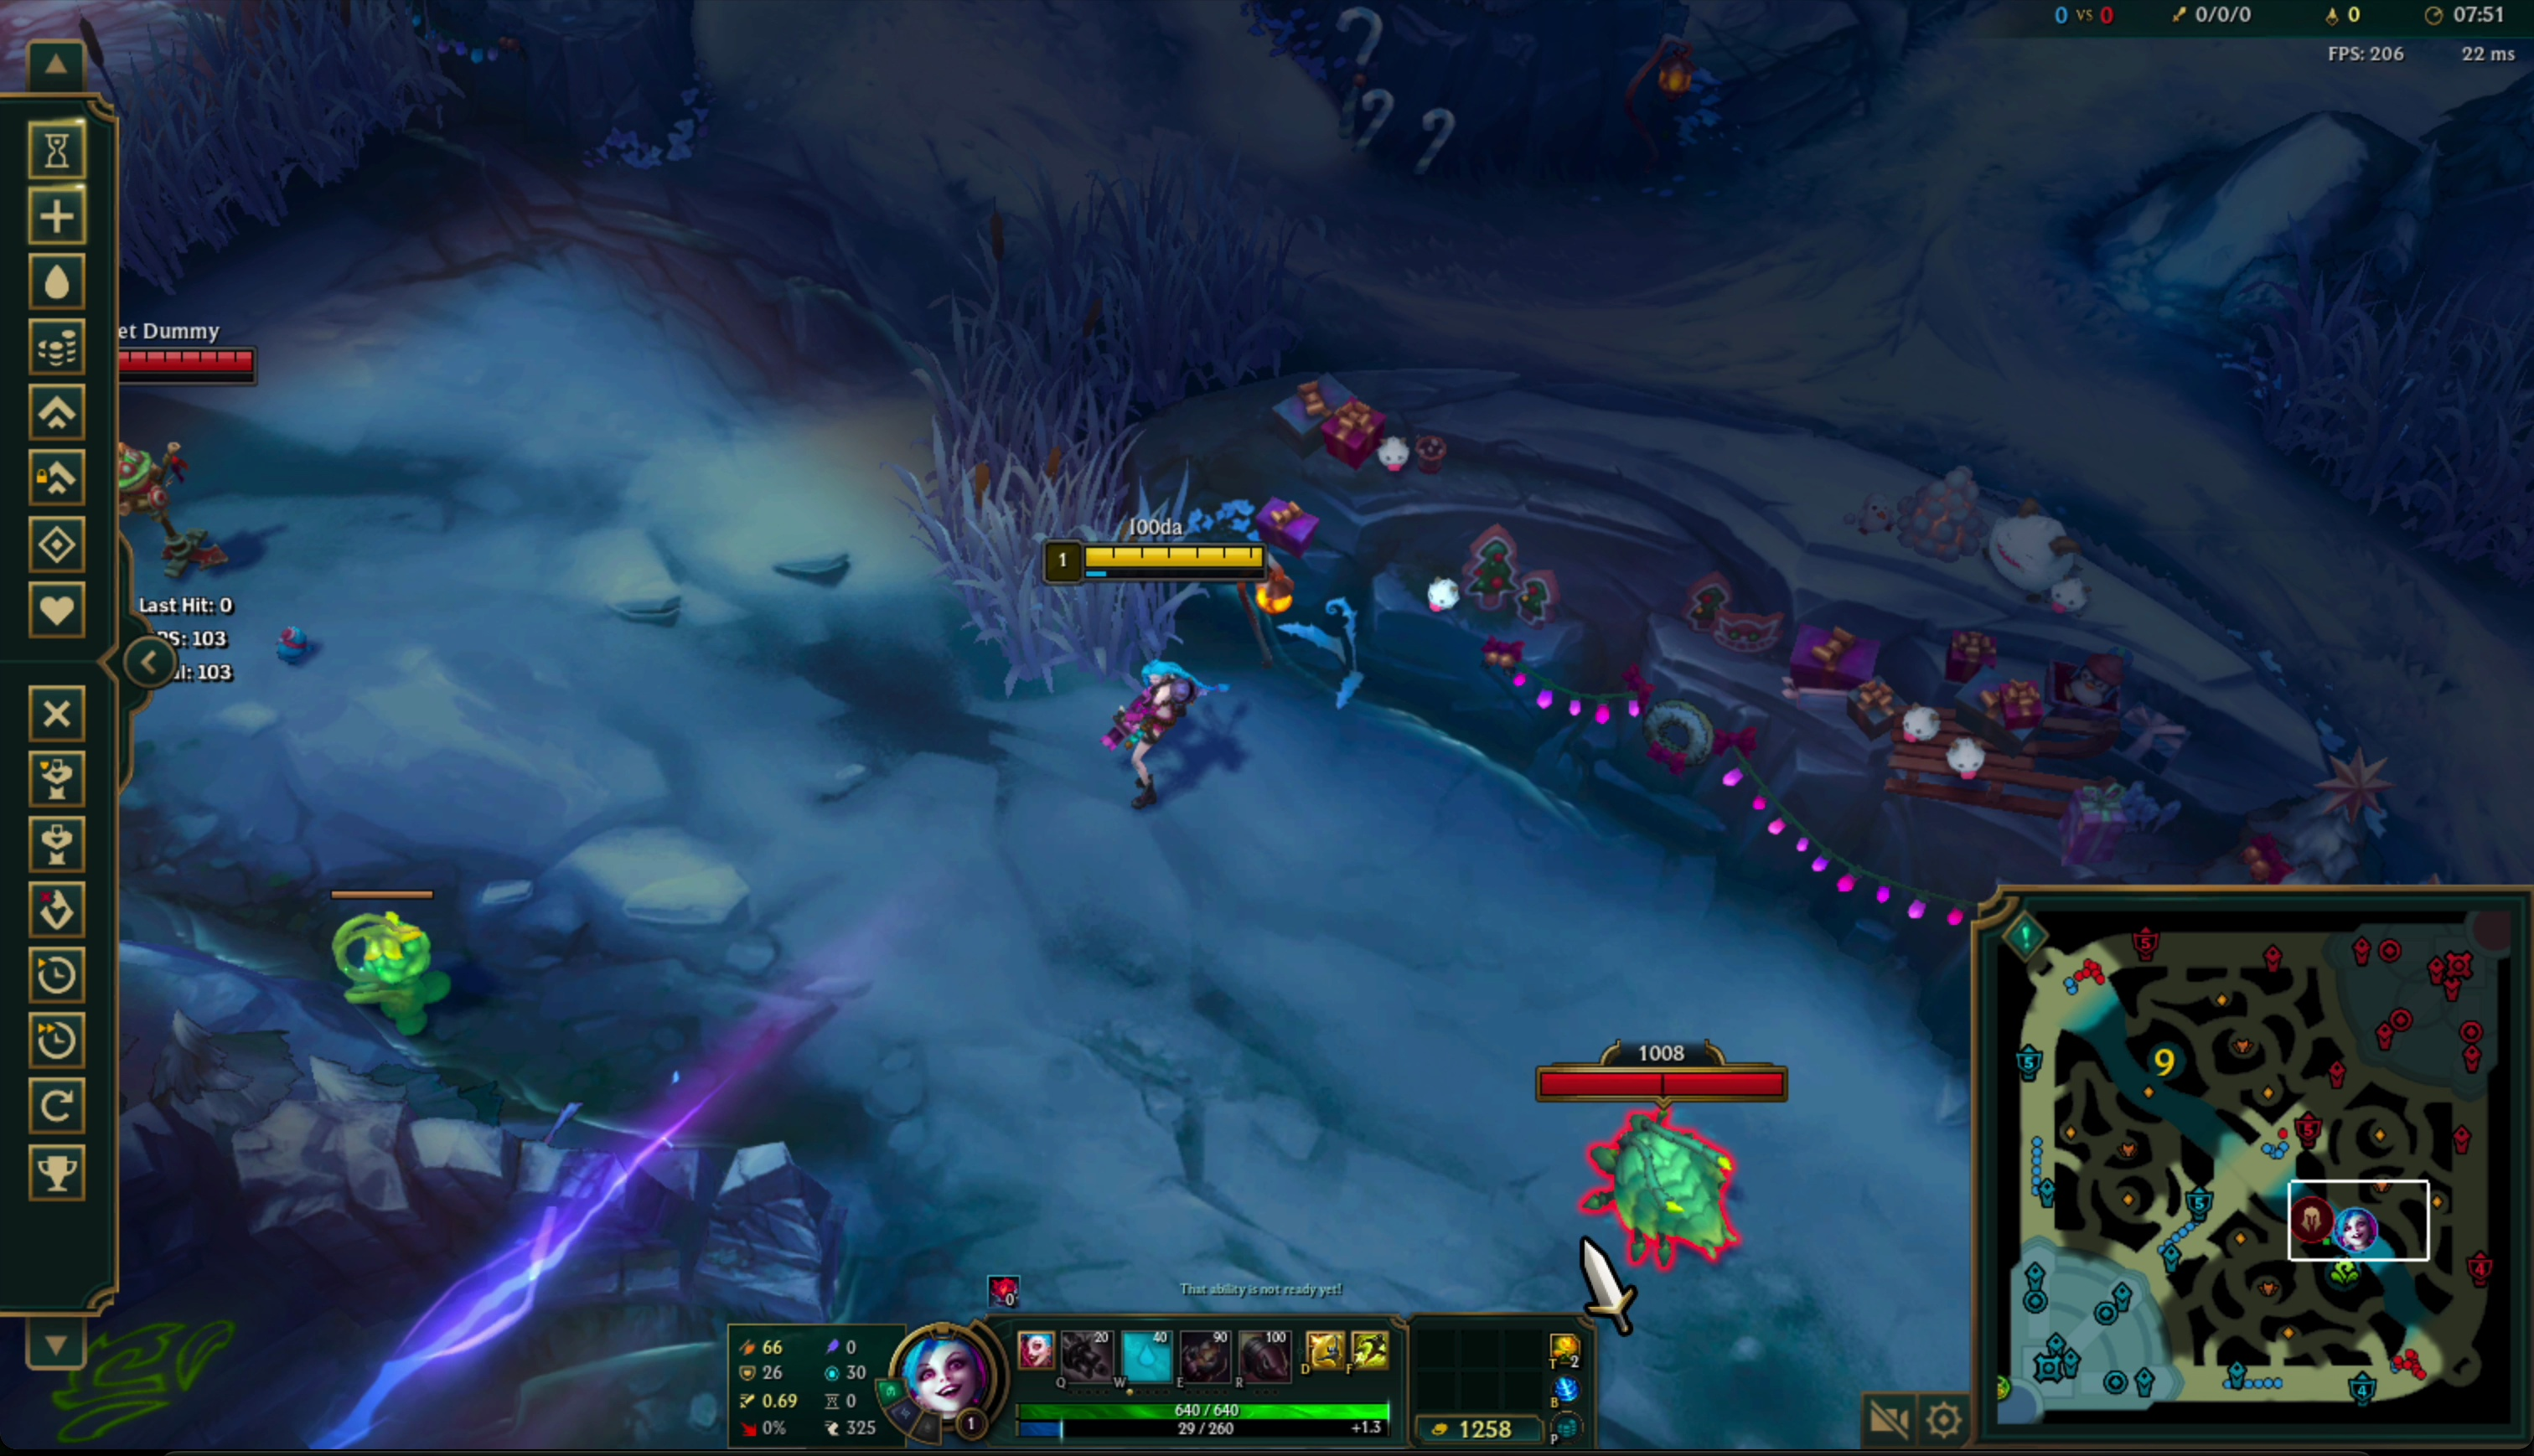JINX_W_PROJECTILE: (320, 884, 816, 1449)
